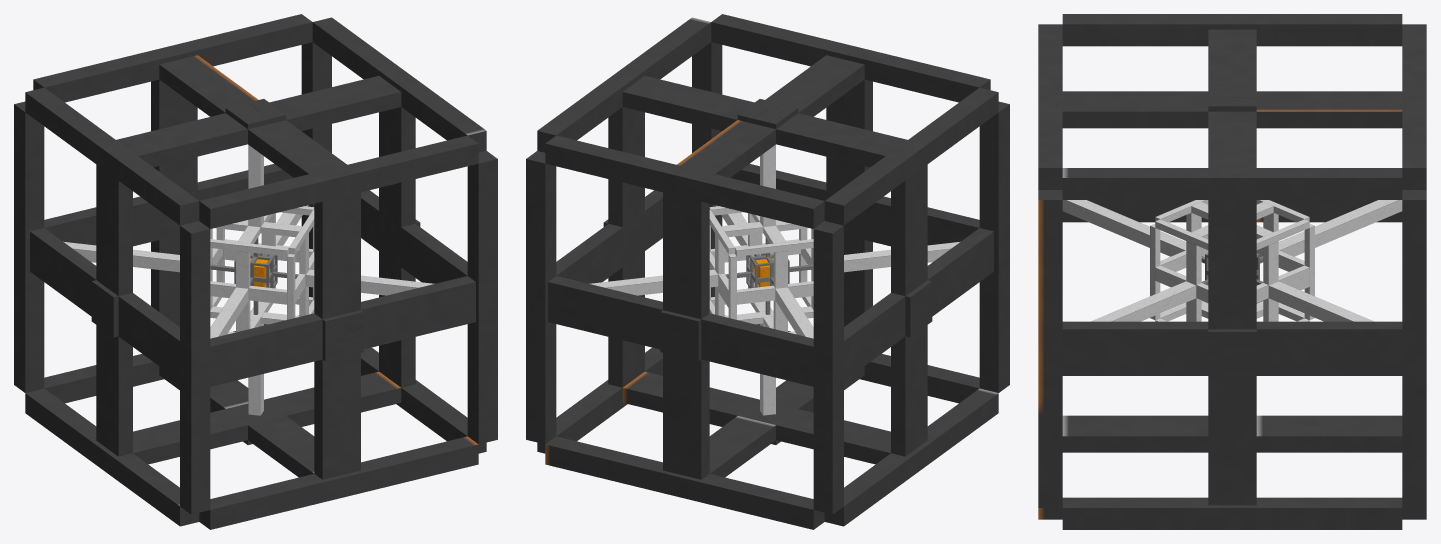
File: infenergy.obj
3 renders of one model, left to right at view 1: azimuth 30°, elevation 25°; view 2: azimuth 150°, elevation 25°; view 3: azimuth 270°, elevation 25°, orthographic. The views are drawn at different scales.
Visible parts, largest first — view 1: cube; view 2: cube; view 3: cube.
Boxes of the visible parts, x1,y1,x2,y2 form: cube: (14,14,497,529); cube: (526,14,1009,529); cube: (1038,14,1426,529).
Size of the model in its own units: 16 by 16 by 16.
